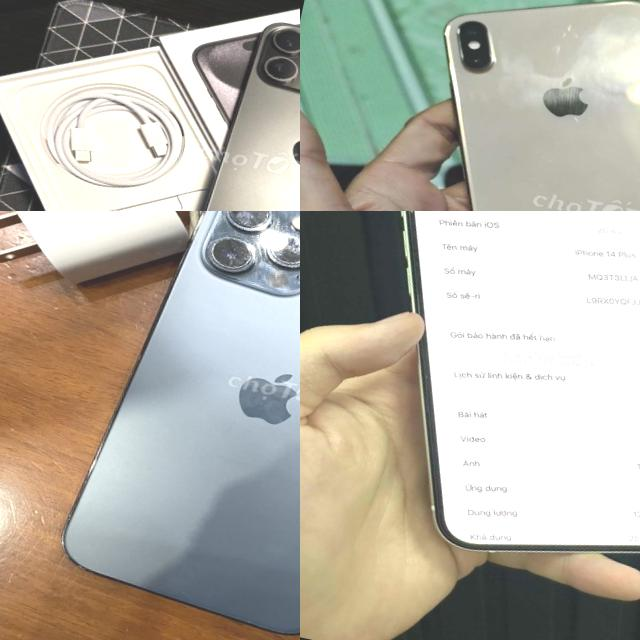scratch: (194, 211, 300, 309), (548, 104, 601, 138), (546, 12, 594, 49), (620, 134, 640, 167)
